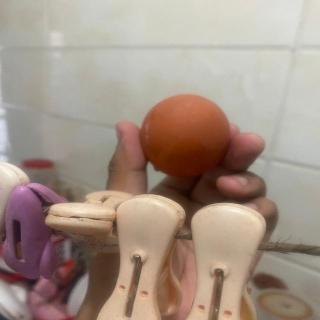Telur: (139, 93, 233, 181)
